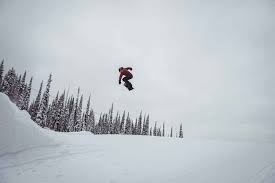snowboard: (125, 86, 136, 91)
